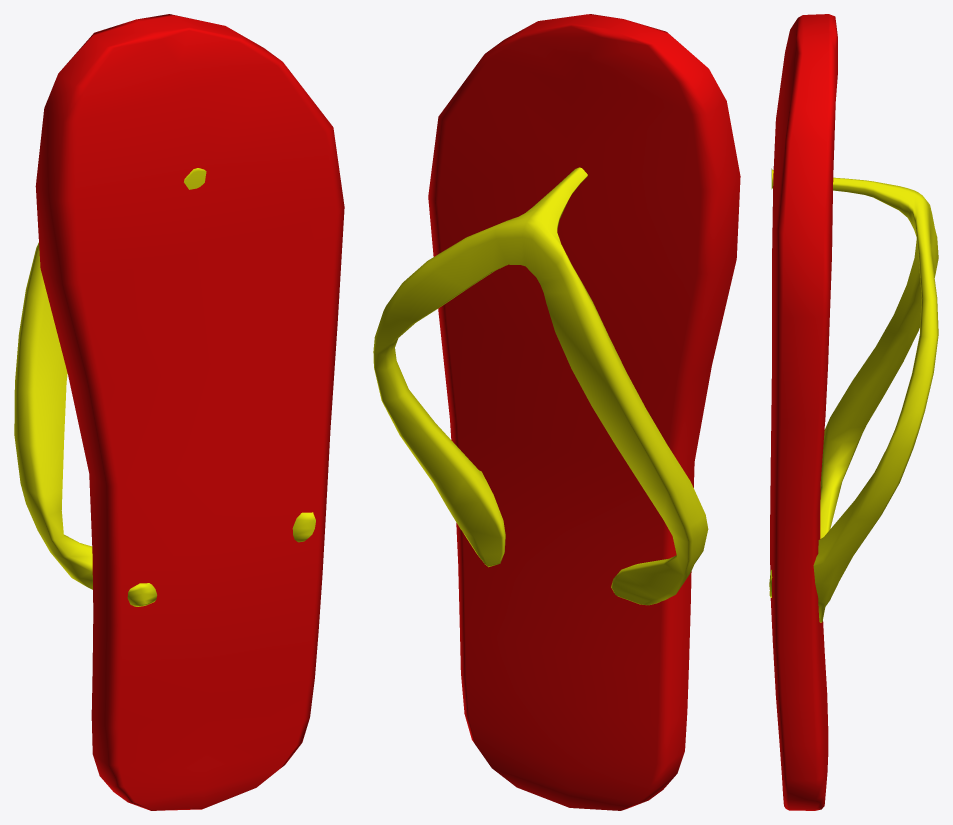
Rendered from Flip_Flop.fbx.
3 renders of one model, left to right at view 1: azimuth 30°, elevation 25°; view 2: azimuth 150°, elevation 25°; view 3: azimuth 270°, elevation 25°, orthographic. The views are drawn at different scales.
Parts seen in each view (by area): view 1: pCube1, polySurface3; view 2: pCube1, polySurface3; view 3: pCube1, polySurface3.
Part boxes in pixels (x1=…): pCube1: x1=35, y1=14, x2=344, y2=810; polySurface3: x1=14, y1=168, x2=315, y2=606; pCube1: x1=428, y1=14, x2=740, y2=810; polySurface3: x1=373, y1=167, x2=708, y2=605; pCube1: x1=770, y1=14, x2=837, y2=810; polySurface3: x1=769, y1=168, x2=938, y2=622.
Bounding box in the file's own units: 1.81 × 4.58 × 0.947.
